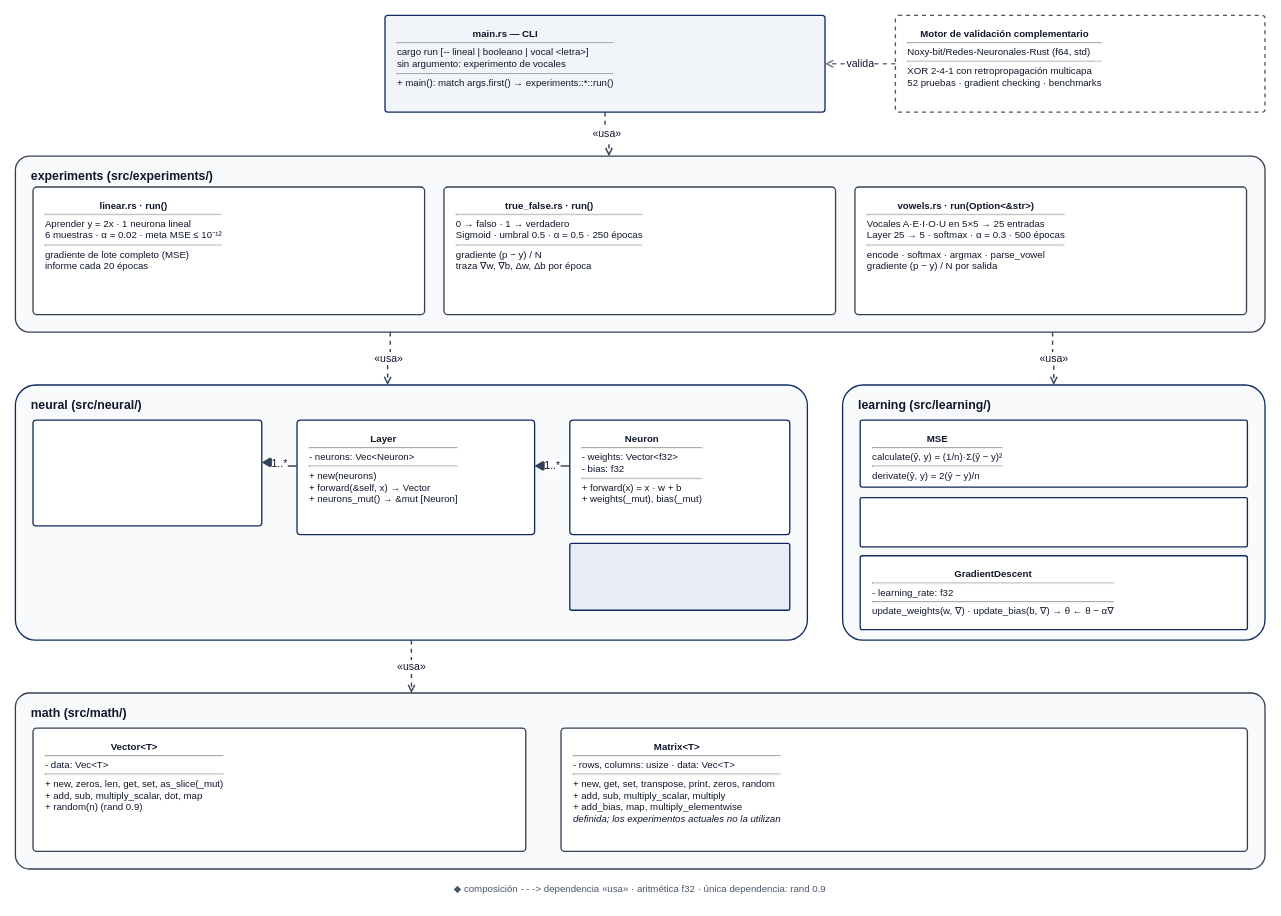
This 1281x916 diagram has some shape labels left out. The shapes that lost their labels are listed below. From the top down, each one's centre as x and y in pixels, then its label:
At (x=147, y=472): "Network - layers: Vec<Layer> + new(layers) + forward(&self, x) → Vector".
At (x=1053, y=522): "Gradient weights(δ, x) = δ·xᵢ · bias(δ) = δ".
At (x=679, y=576): "Activacion relu(v) = max(0, v) sigmoid(v) = 1 / (1 + e⁻ᵛ)".
